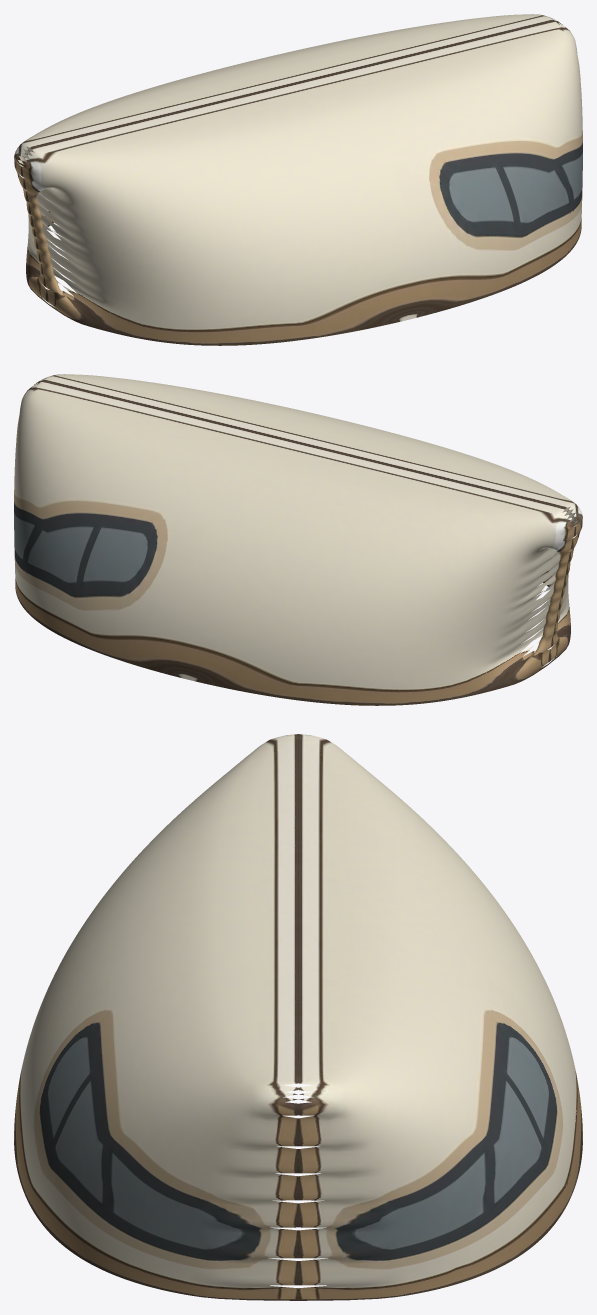
File: vented_rear_wall.glb
3 views of the same model, one above another, from view 1: azimuth 30°, elevation 25°; view 2: azimuth 150°, elevation 25°; view 3: azimuth 270°, elevation 25° (orthographic). The views are drawn at different scales.
Visible parts, largest first — view 1: vented_rear_wall; view 2: vented_rear_wall; view 3: vented_rear_wall.
Part boxes in pixels (bbox=[...]): vented_rear_wall: bbox=[14, 14, 582, 345]; vented_rear_wall: bbox=[14, 374, 582, 705]; vented_rear_wall: bbox=[14, 734, 582, 1300].
Size of the model in its own units: 0.9883 by 0.2807 by 0.6517.
Materials: 1 (1 with a texture image).
